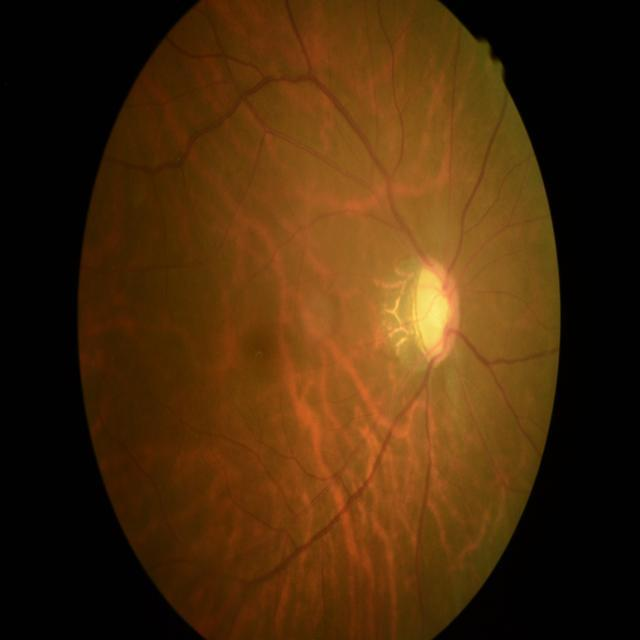cup: (418, 270, 452, 356)
disk: (414, 259, 462, 365)
